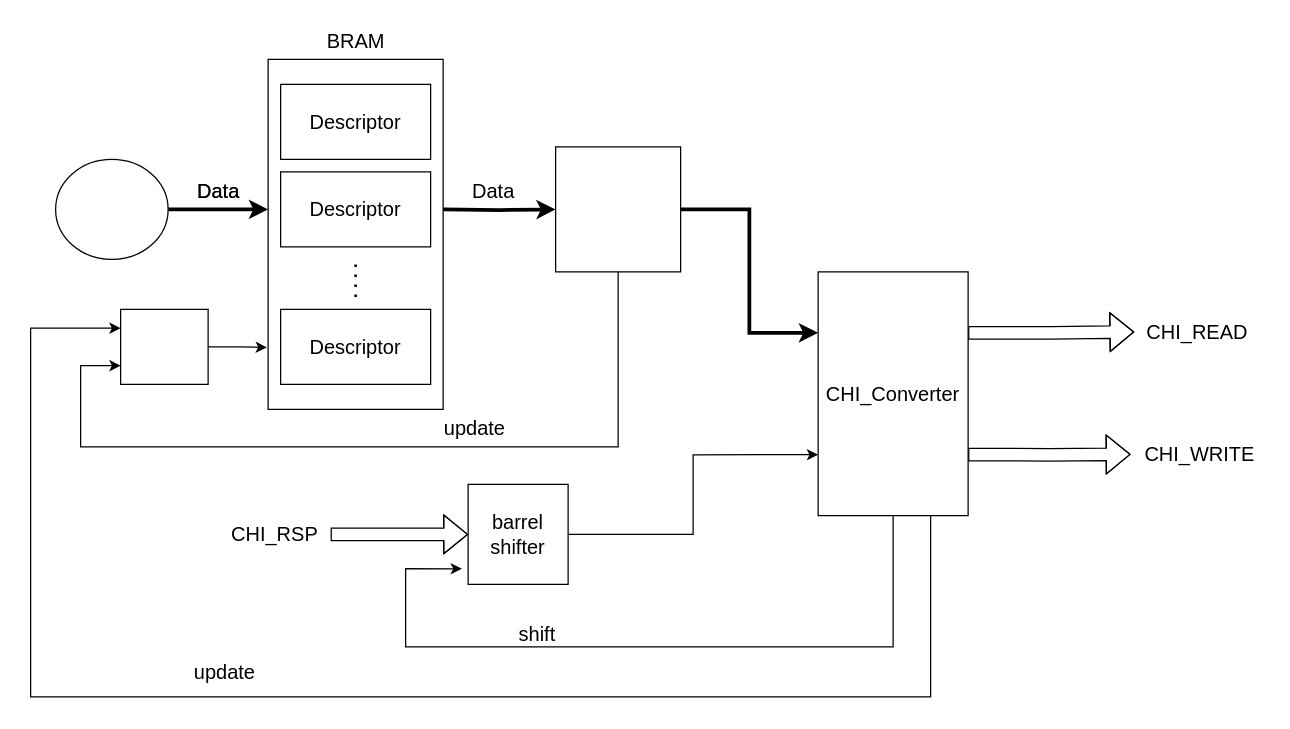
This 1290x729 diagram has some shape labels left out. Each missing label, with the centre of its shape:
"Arbiter" goes at [163,346].
"Proc" goes at [111,208].
"scheduler" goes at [617,209].
